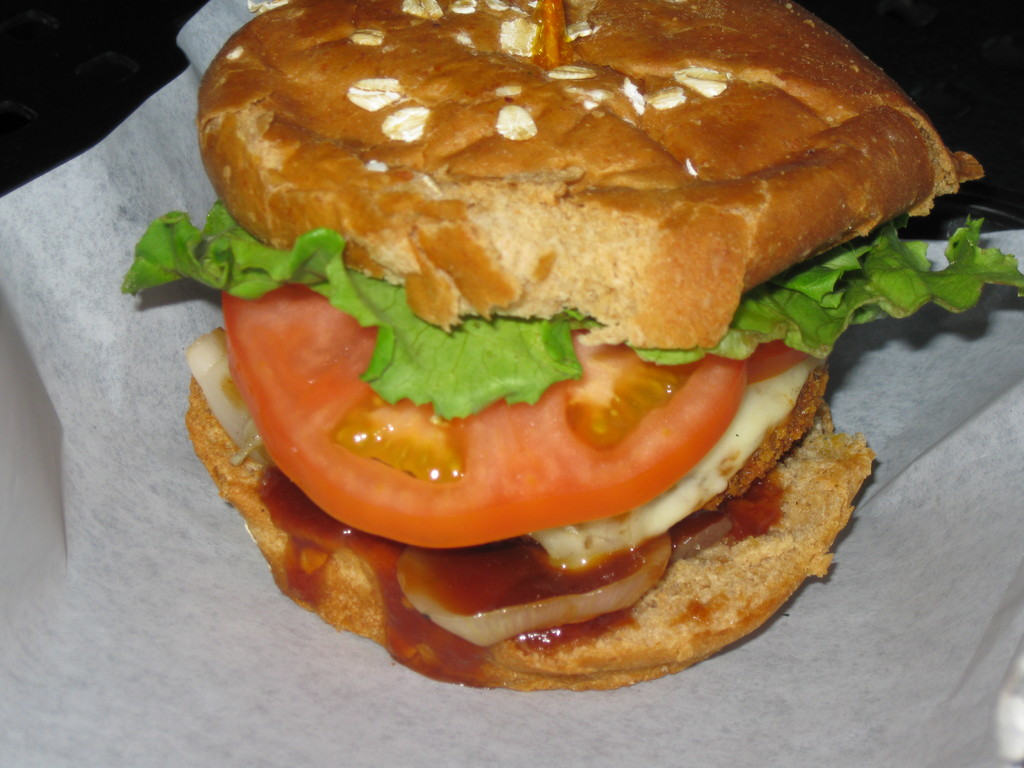Hamburger: (117, 0, 1023, 695)
